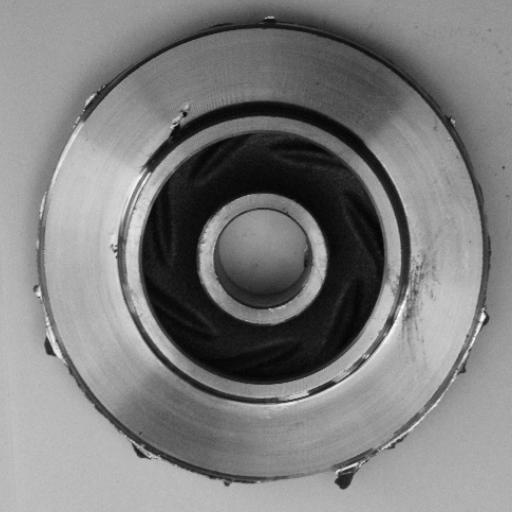casting_with_burr: (33, 15, 493, 493)
crack: (133, 96, 204, 173), (108, 208, 135, 280)
stain: (383, 229, 449, 373)
